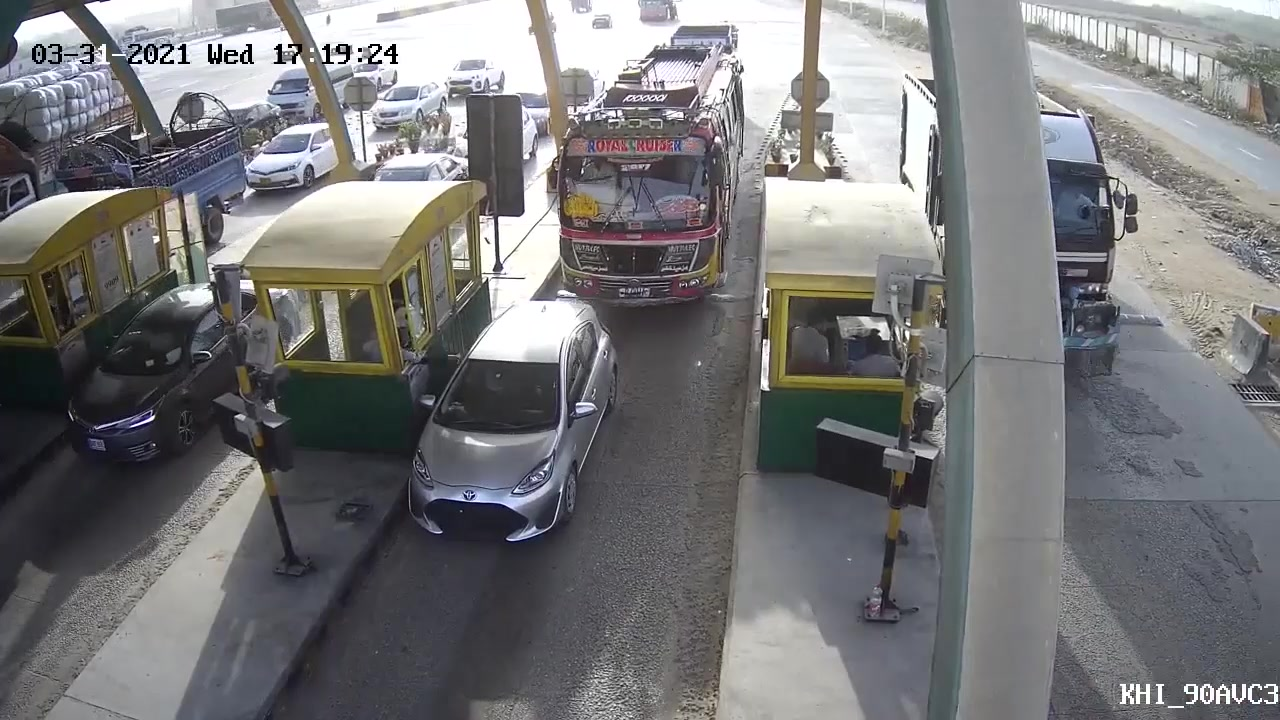F1: (381, 299, 635, 556)
F4: (549, 24, 750, 309)
